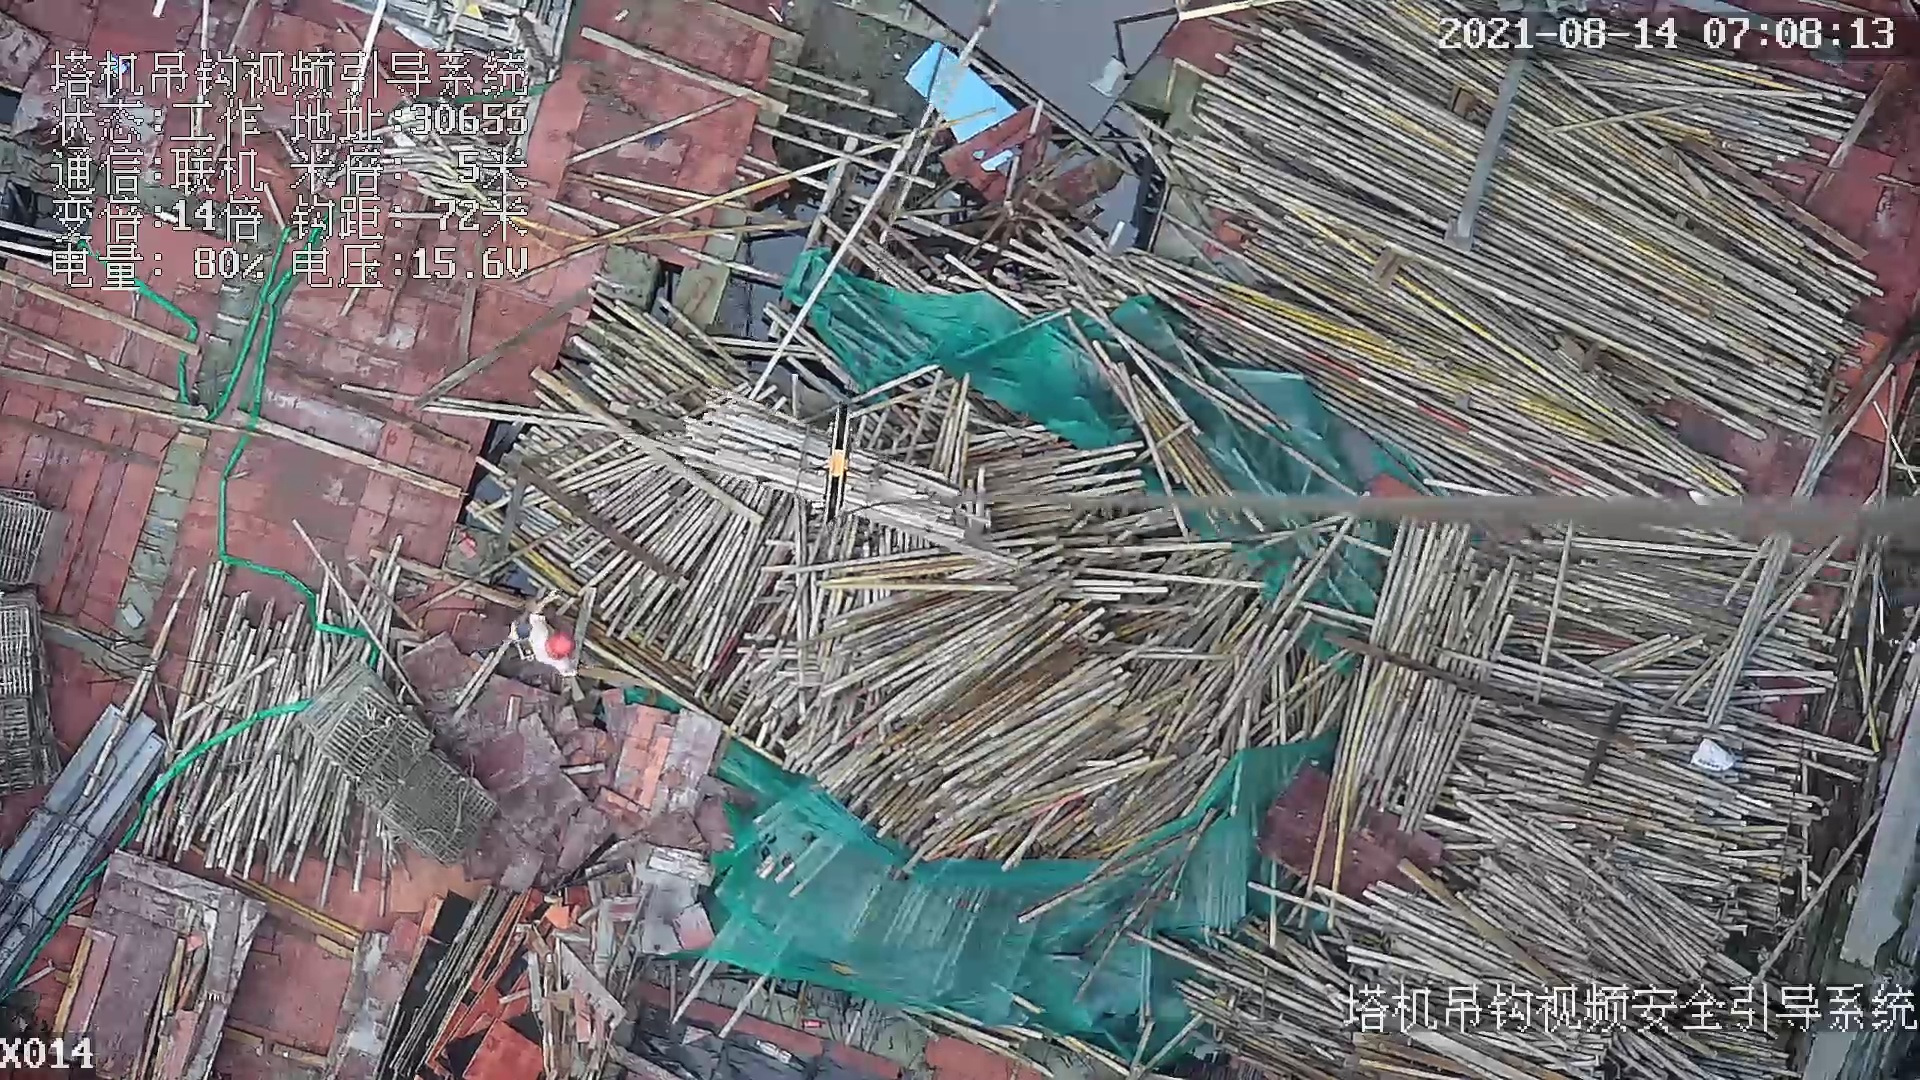helmet: (546, 631, 577, 657)
hook: (813, 394, 862, 526)
person: (536, 603, 585, 678)
